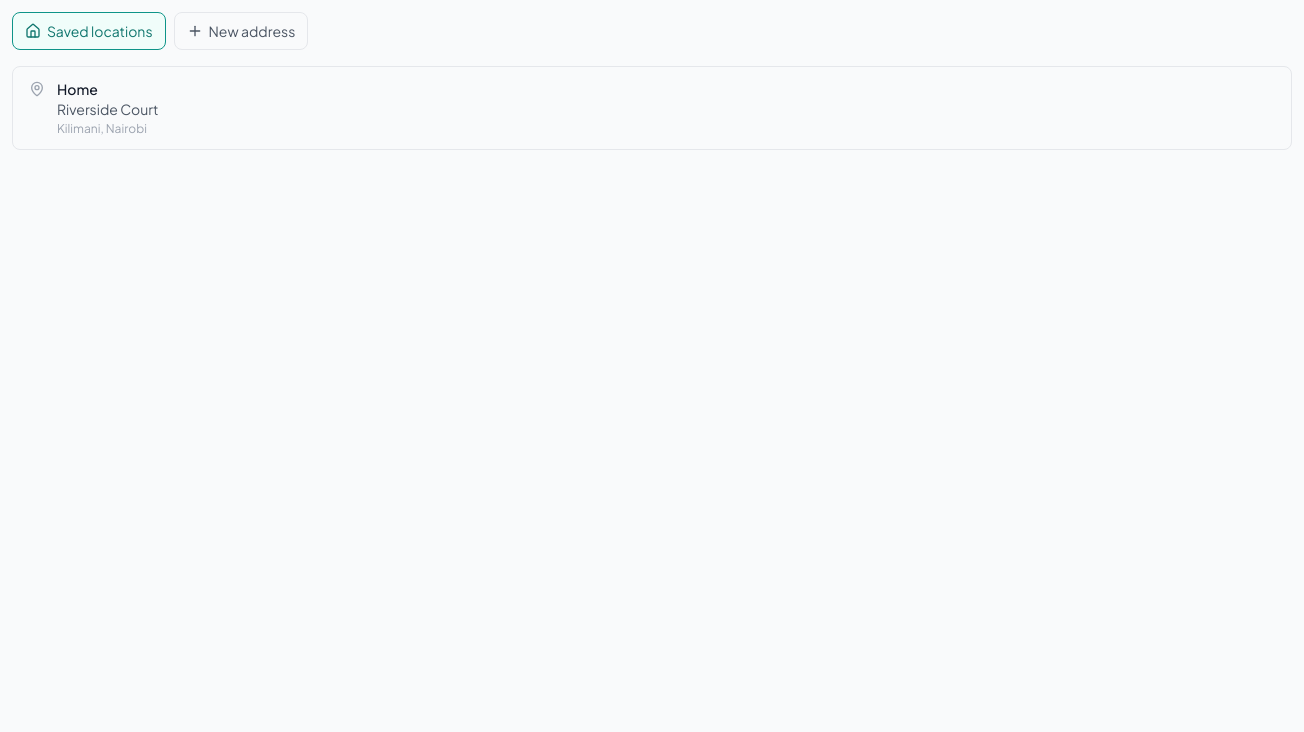
Test case: LocationPicker mode is derived, not synchronised › still lets the user switch modes while saved locations exist
Click the button "New address" at (241, 31), box [174,12,308,50]
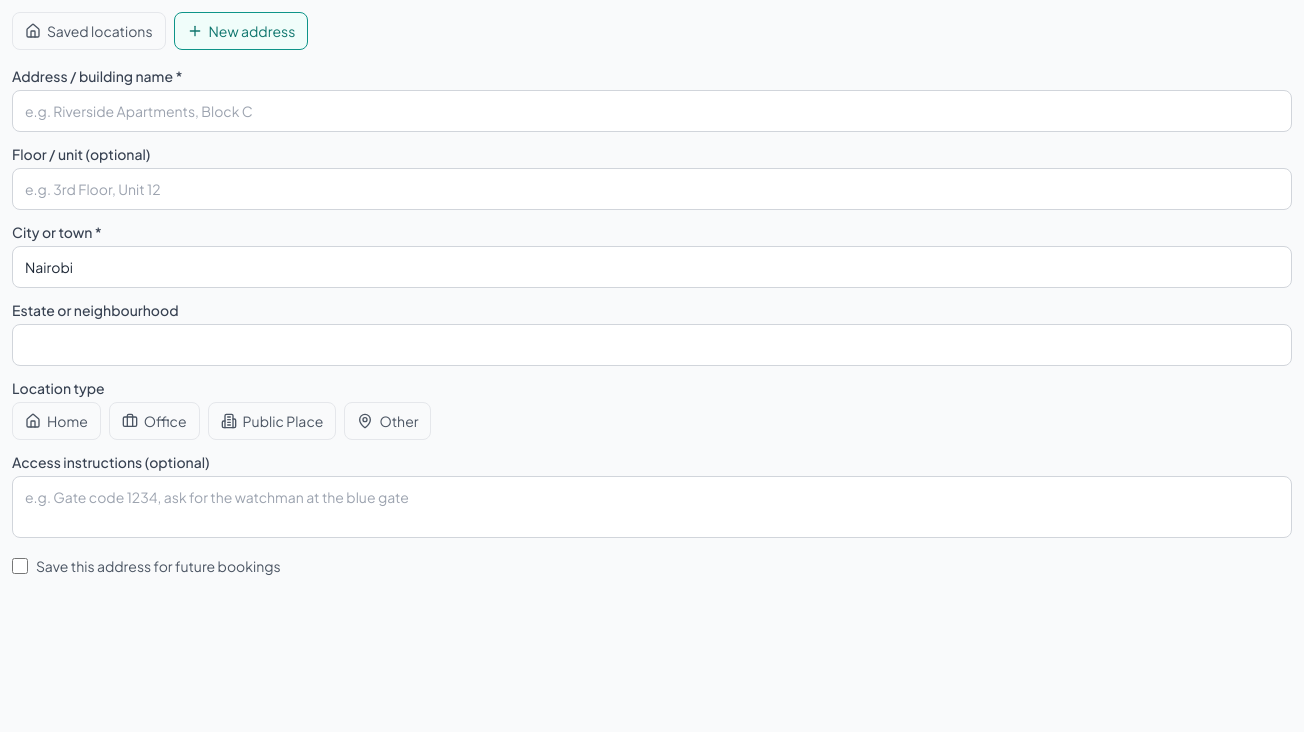
Check: the field with id "loc-address" is shown, box [12,90,1292,132]
